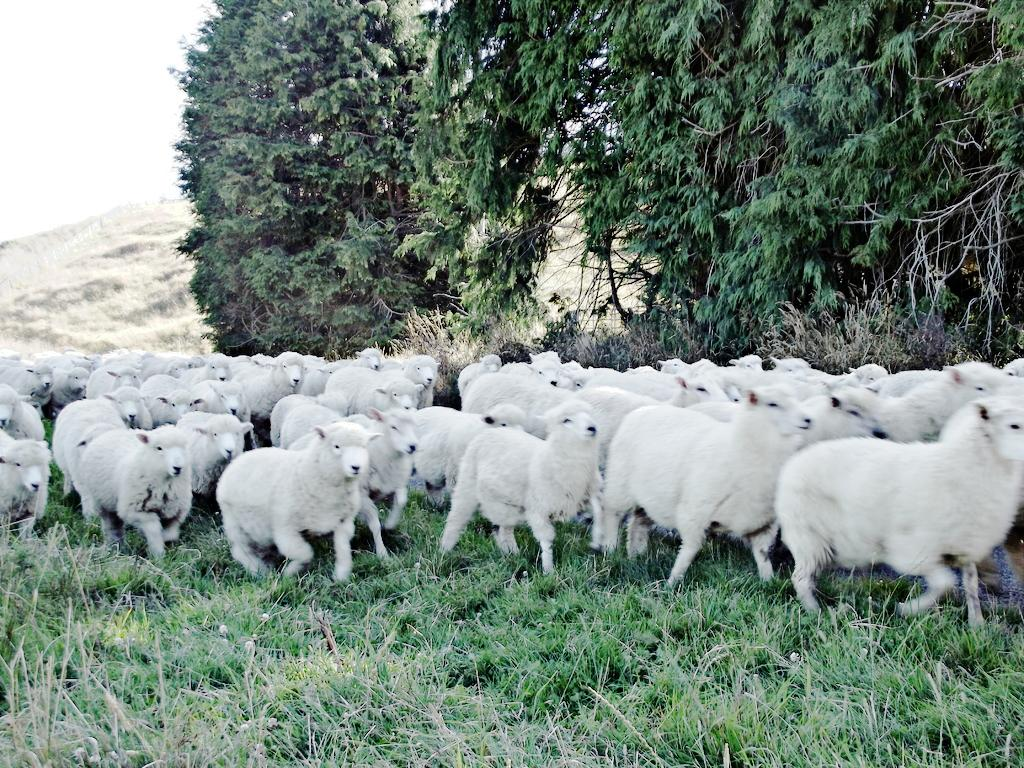Sheep: (773, 404, 1024, 640), (612, 382, 818, 606), (444, 397, 602, 579), (217, 428, 388, 586), (73, 418, 201, 564), (406, 396, 530, 513), (309, 414, 427, 522), (52, 395, 129, 498), (0, 423, 56, 552), (902, 361, 1006, 426), (324, 360, 422, 427), (178, 408, 252, 492), (238, 350, 312, 419), (370, 352, 447, 408), (138, 371, 203, 422), (2, 382, 54, 445), (82, 380, 156, 423), (475, 360, 567, 391), (188, 374, 248, 418), (3, 361, 56, 409), (453, 353, 504, 398), (833, 359, 895, 396), (43, 357, 90, 401), (86, 364, 143, 397), (176, 353, 233, 384), (336, 348, 388, 380), (300, 362, 347, 397), (646, 357, 700, 383), (720, 353, 769, 376), (141, 355, 186, 380)
